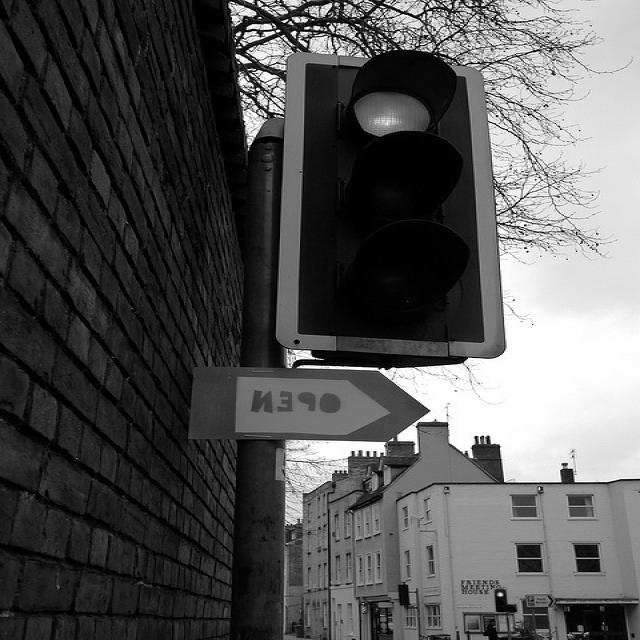pole: (229, 120, 303, 635)
